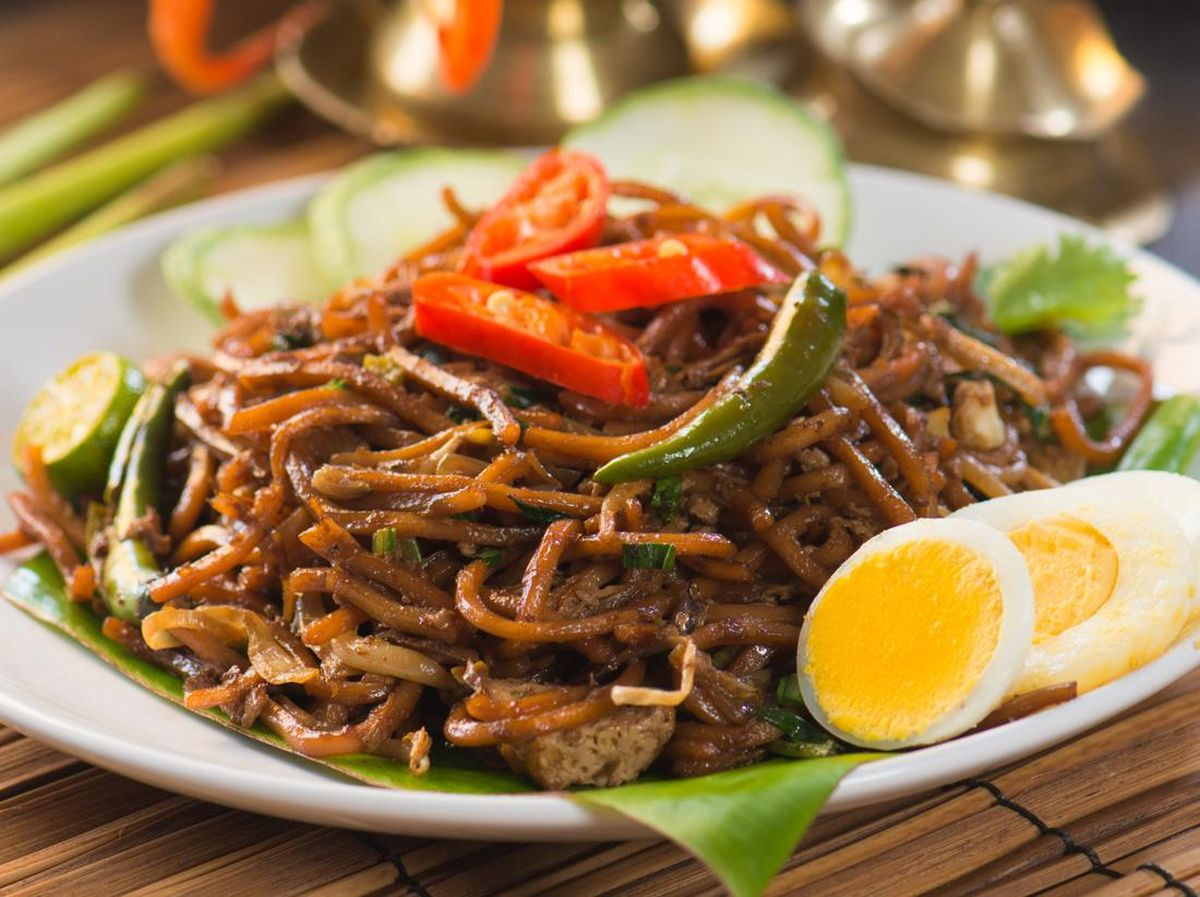Mie: (83, 199, 1108, 778)
